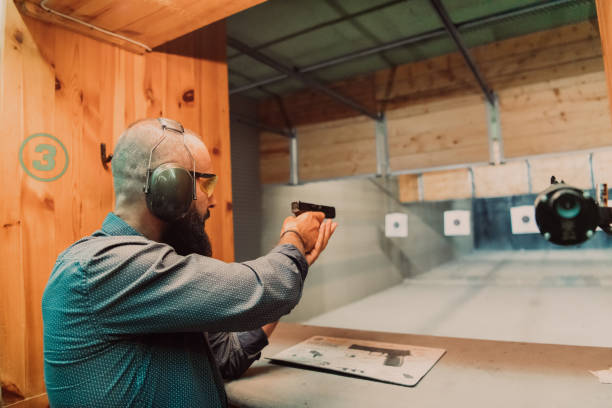gun: (290, 202, 337, 219)
